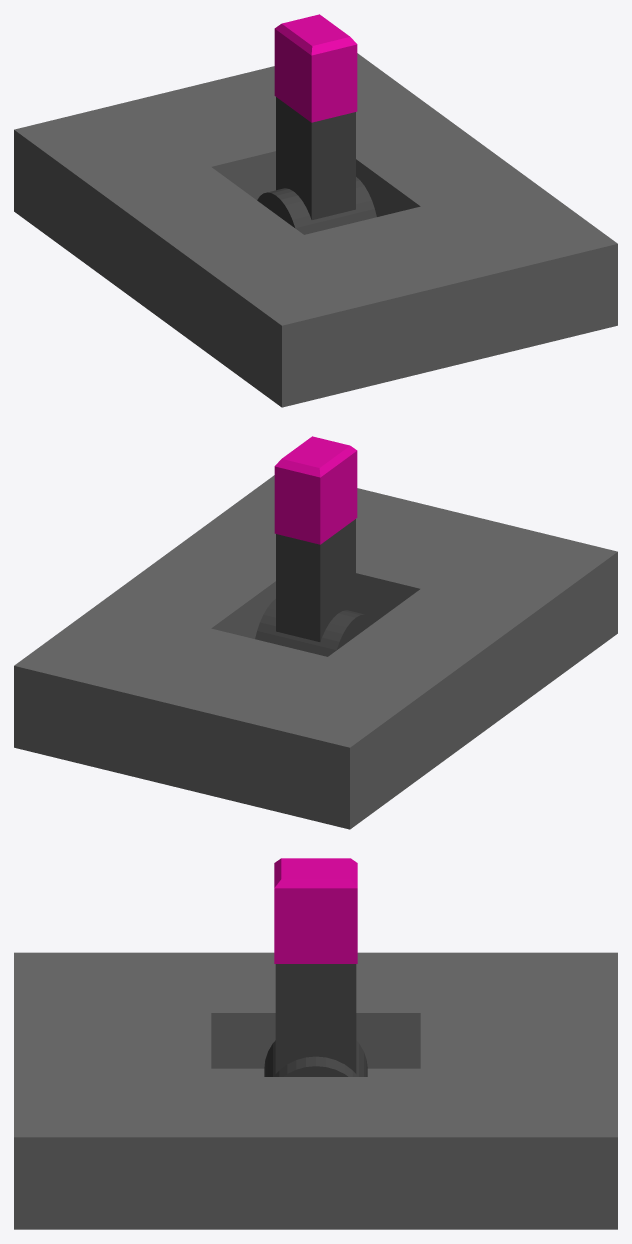
The model's file is PinkSwitch.glb.
3 renders of one model, top to bottom at view 1: azimuth 30°, elevation 25°; view 2: azimuth 150°, elevation 25°; view 3: azimuth 270°, elevation 25°, orthographic. The views are drawn at different scales.
Parts seen in each view (by area): view 1: Base, Switch, Cube; view 2: Base, Switch, Cube; view 3: Base, Switch, Cube.
Part boxes in pixels (x1=…): Base: x1=14, y1=53, x2=617, y2=407; Switch: x1=257, y1=97, x2=376, y2=234; Cube: x1=274, y1=14, x2=357, y2=122; Base: x1=14, y1=475, x2=617, y2=829; Switch: x1=255, y1=519, x2=374, y2=656; Cube: x1=274, y1=436, x2=357, y2=544; Base: x1=14, y1=952, x2=617, y2=1229; Switch: x1=264, y1=964, x2=367, y2=1076; Cube: x1=274, y1=858, x2=357, y2=963.
Bounding box in the file's own units: 0.0463 × 0.0315 × 0.0639.
